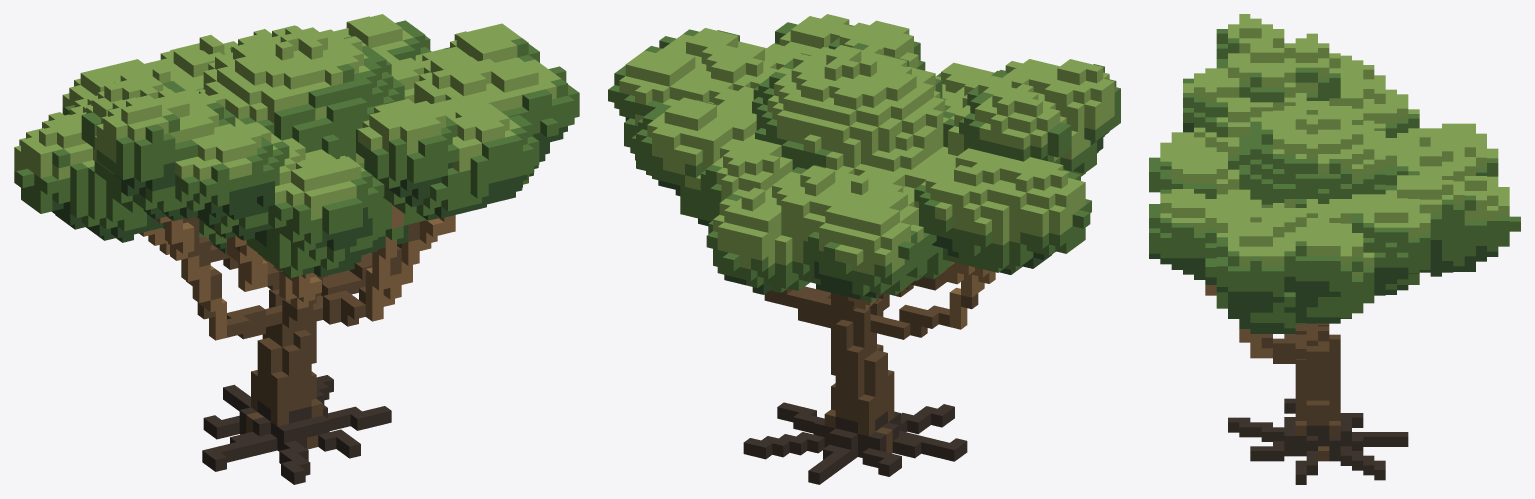
File: ancient_oak_v2_mid.glb
The picture shows the model from 3 angles, left to right: view 1: azimuth 30°, elevation 25°; view 2: azimuth 150°, elevation 25°; view 3: azimuth 270°, elevation 25°; orthographic projection. The views are drawn at different scales.
Parts seen in each view (by area): view 1: ancient_oak_v2_mid; view 2: ancient_oak_v2_mid; view 3: ancient_oak_v2_mid.
Part boxes in pixels (x1=…): ancient_oak_v2_mid: x1=14, y1=14, x2=579, y2=484; ancient_oak_v2_mid: x1=608, y1=14, x2=1120, y2=484; ancient_oak_v2_mid: x1=1149, y1=14, x2=1520, y2=484.
Bounding box in the file's own units: 10.75 × 8.5 × 8.25.
1 material, 1 textured.
